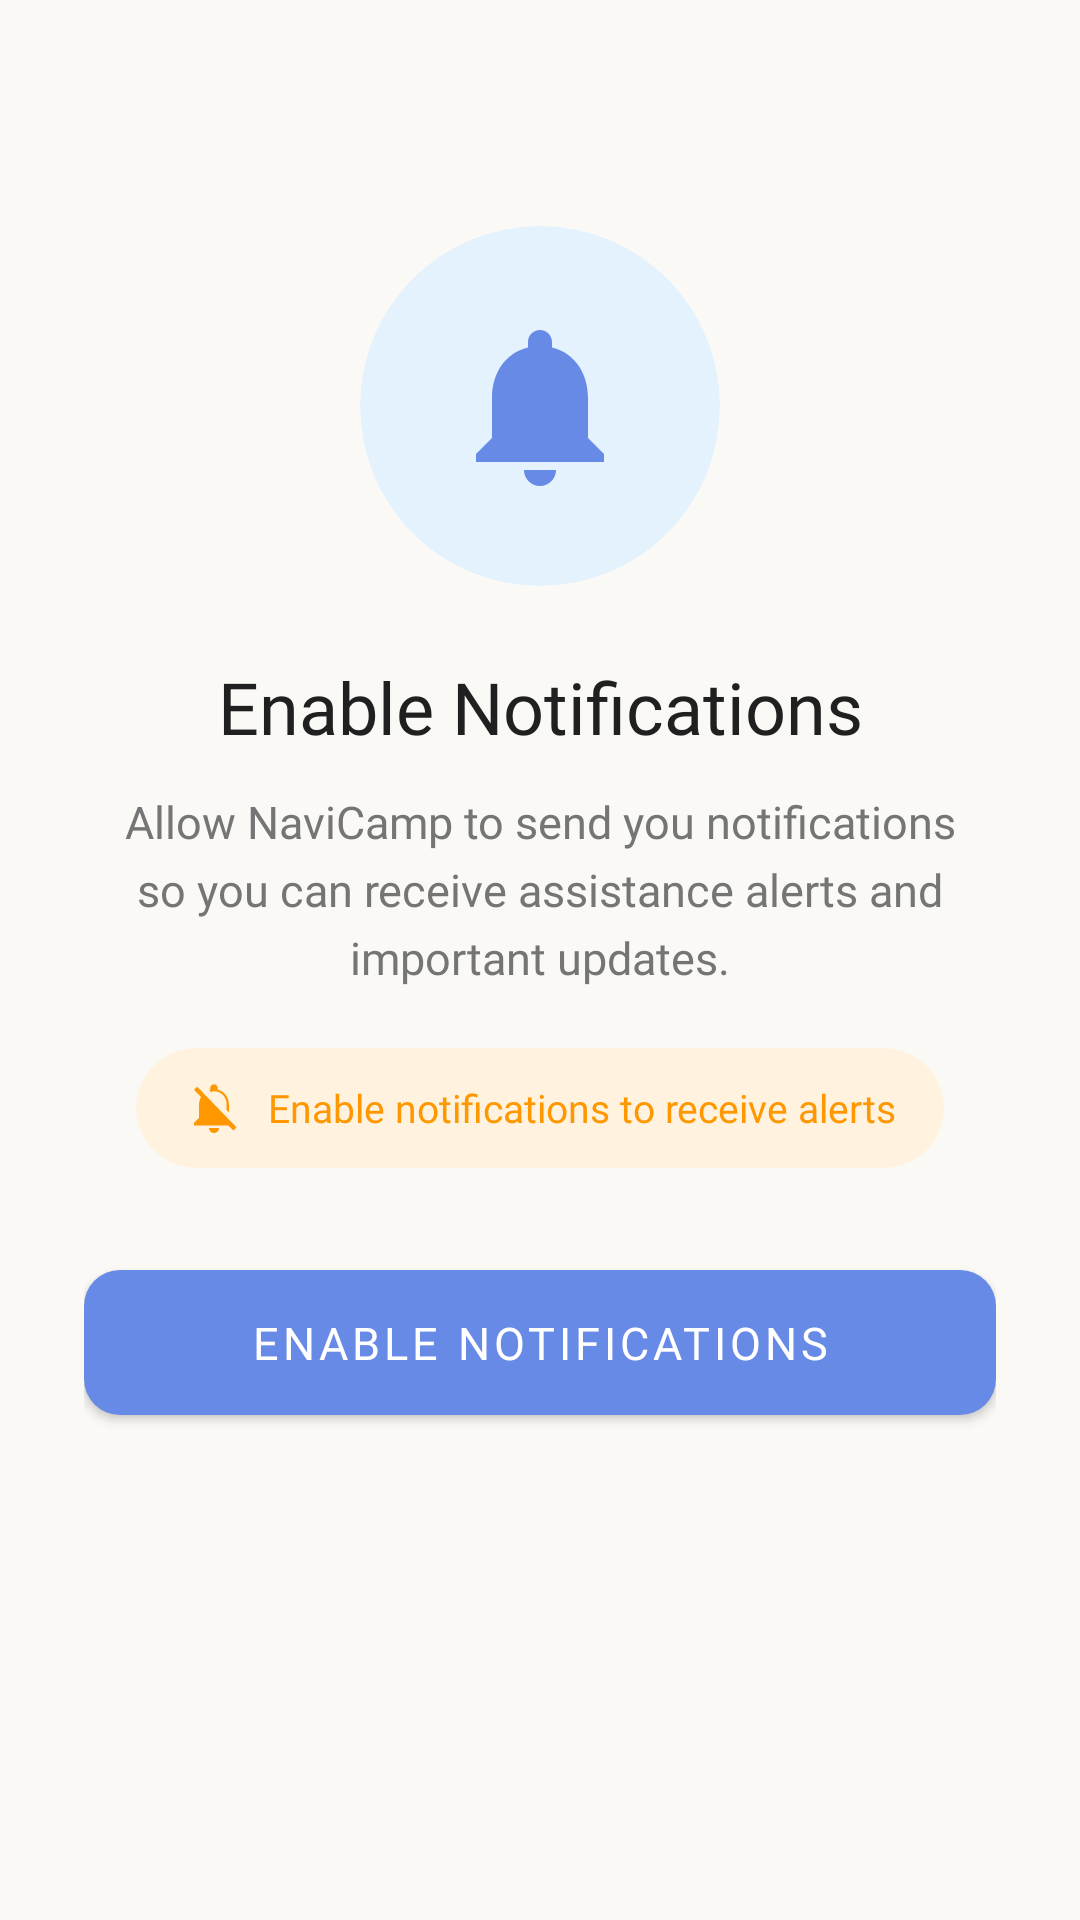

Where icons sit on this 1080×1920 app screen, as region(x1, y1, x2, y2):
notifications: region(476, 330, 604, 486)
notifications off: region(194, 1084, 237, 1133)
